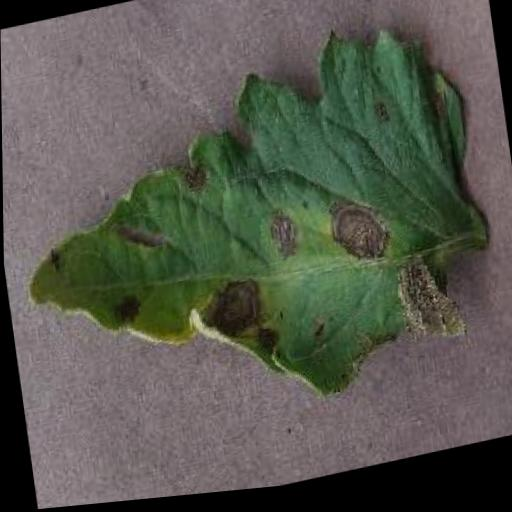Early Blight: (2, 12, 503, 455)
